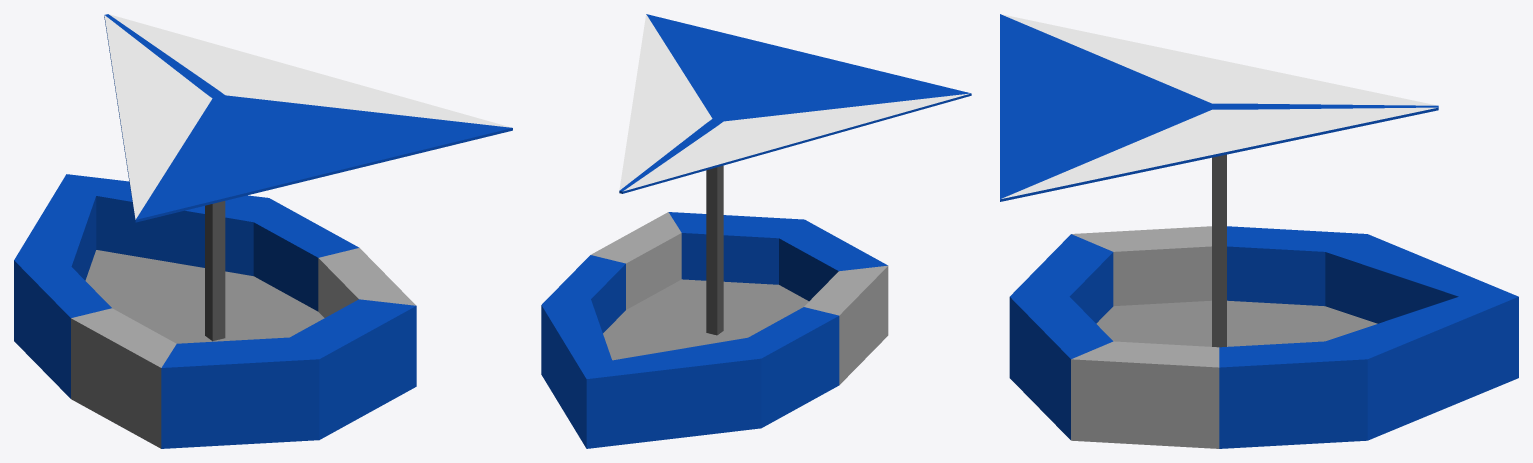
Rendered from Boat02.fbx.
3 renders of one model, left to right at view 1: azimuth 30°, elevation 25°; view 2: azimuth 150°, elevation 25°; view 3: azimuth 270°, elevation 25°, orthographic. The views are drawn at different scales.
Parts seen in each view (by area): view 1: Boat02; view 2: Boat02; view 3: Boat02.
Boxes of the visible parts, left/top/right/bottom form: Boat02: left=14, top=14, right=512, bottom=448; Boat02: left=541, top=14, right=971, bottom=448; Boat02: left=1000, top=14, right=1518, bottom=448.
Bounding box in the file's own units: 293 × 200 × 346.
